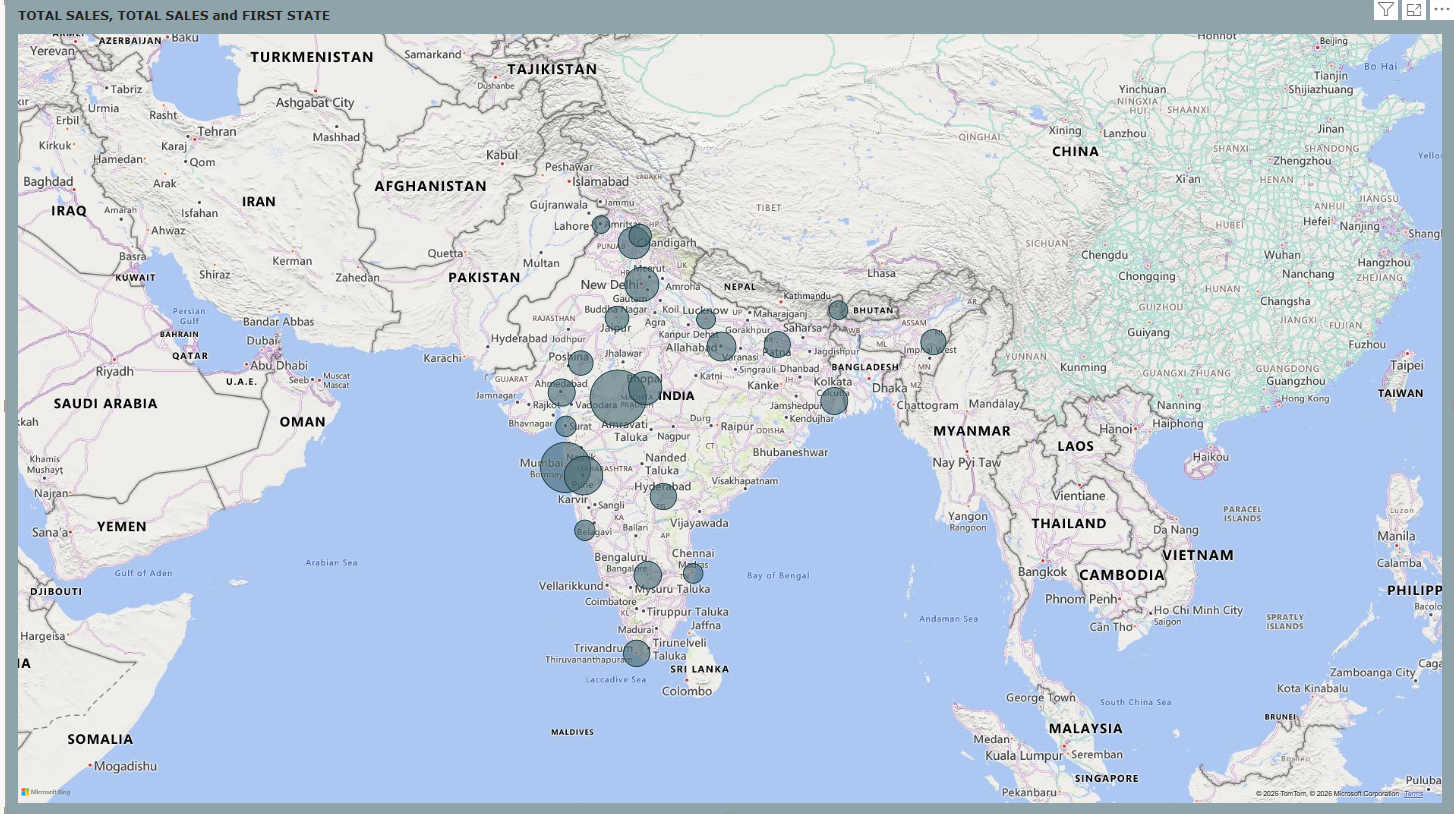

What the dashboard file says about the page in this screenshot:
{"tool":"powerbi","page":{"name":"GEOGRAPHIC","canvas":[1920,1080],"ordinal":2},"visuals":[{"type":"map","title":"TOTAL SALES, TOTAL SALES and FIRST STATE","fields":{"Category":["List of Orders.City"],"Size":["Order Details.total sales"]},"box":[10.5,0,1909.8,1080],"z":0}]}

Visuals, with their boxes in screenshot pixels (x1, y1, x2, y2), scaled from the page's 1920x1080 canvas onto the 1454x814 screenshot:
"TOTAL SALES, TOTAL SALES and FIRST STATE" map: [x1=8, y1=0, x2=1453, y2=813]
